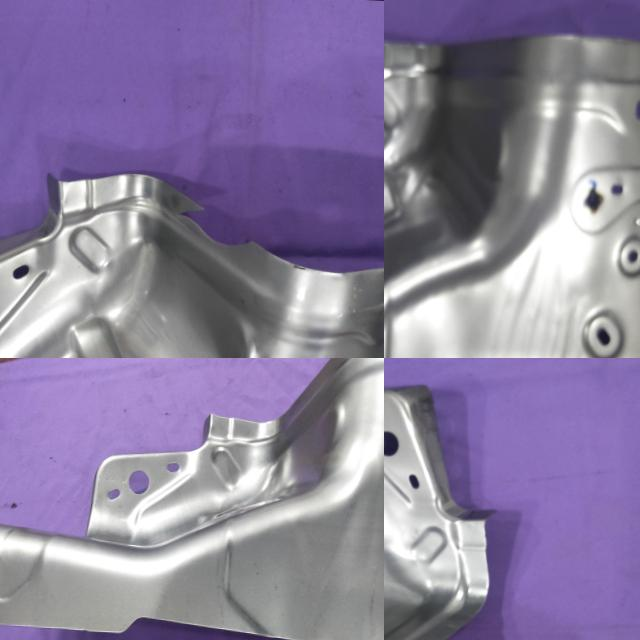Defect: (0, 358, 384, 640), (152, 170, 274, 280)
Healthy: (384, 15, 640, 358), (384, 358, 504, 640)
